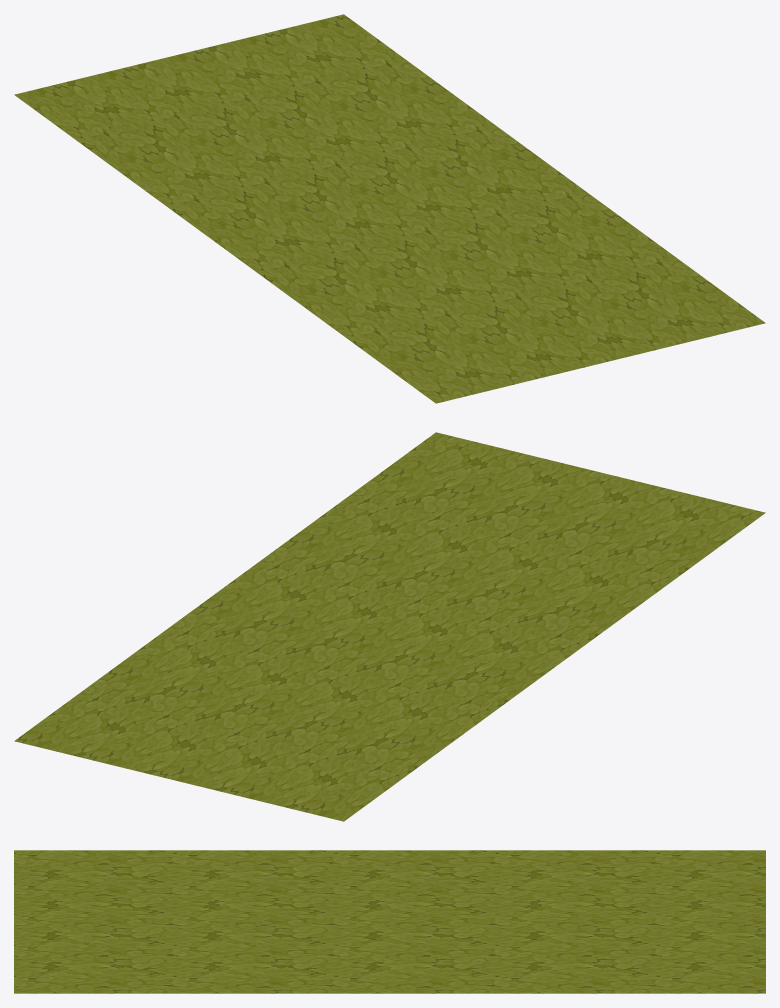
File: zemin tahta.fbx
The picture shows the model from 3 angles, top to bottom: view 1: azimuth 30°, elevation 25°; view 2: azimuth 150°, elevation 25°; view 3: azimuth 270°, elevation 25°; orthographic projection. The views are drawn at different scales.
Visible parts, largest first — view 1: Plane.001; view 2: Plane.001; view 3: Plane.001.
Part boxes in pixels (x1,y1,x2,y2): Plane.001: (14, 14, 765, 403); Plane.001: (14, 432, 765, 821); Plane.001: (14, 850, 765, 993).
Size of the model in its own units: 409 by 0.000148 by 907.
